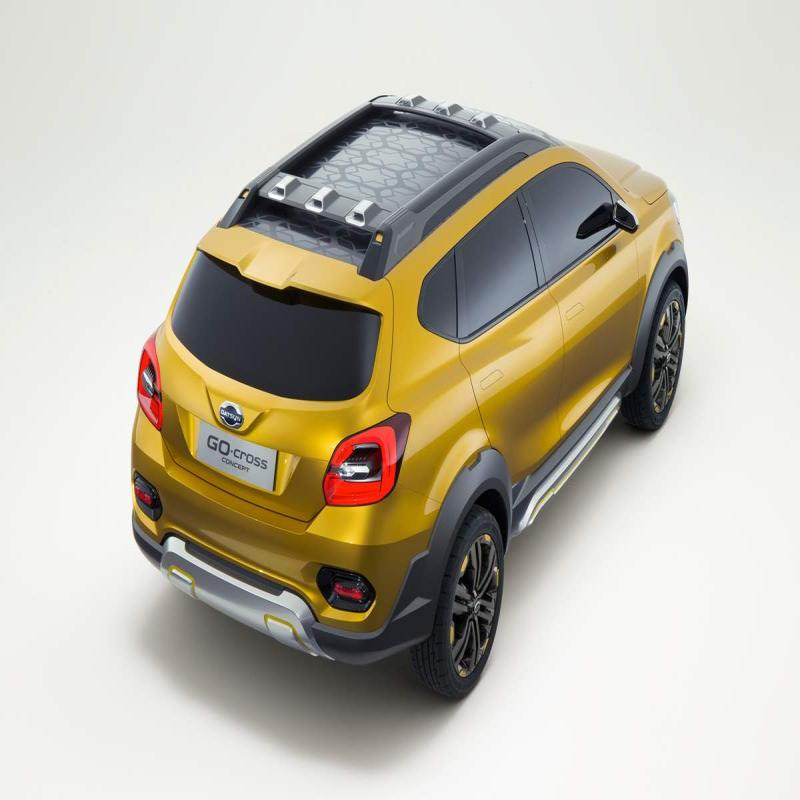car: (116, 71, 694, 708)
